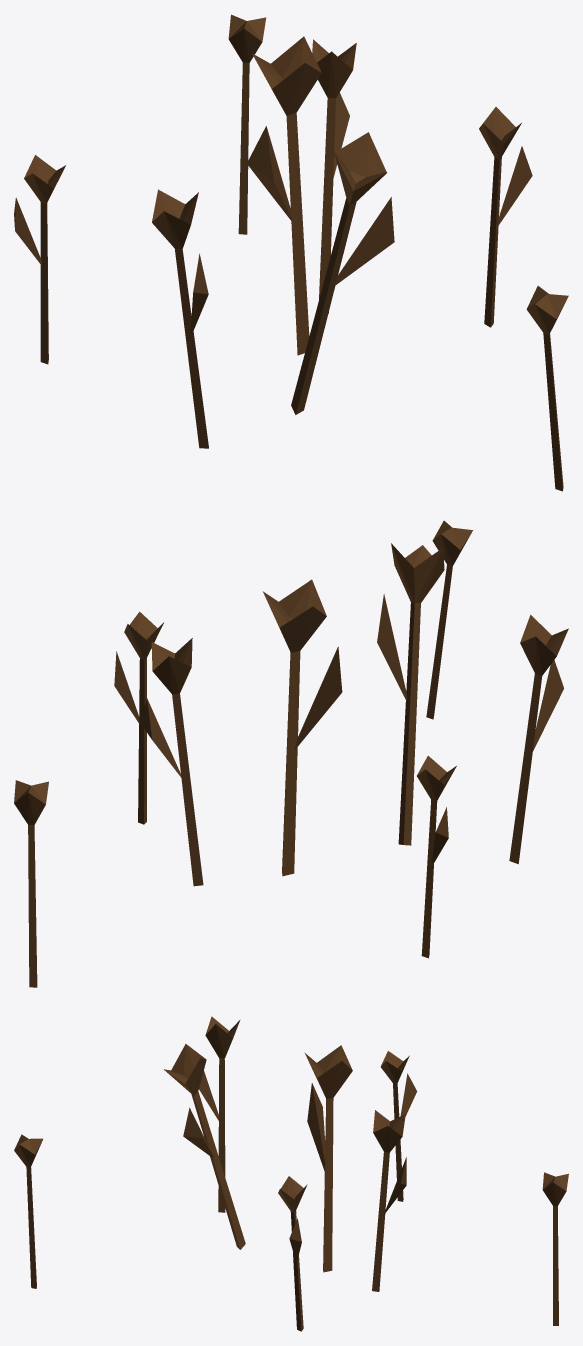
The model's file is SM_Flower_Random_Mature_A.fbx.
3 views of the same model, one above another, from view 1: azimuth 30°, elevation 25°; view 2: azimuth 150°, elevation 25°; view 3: azimuth 270°, elevation 25° (orthographic). The views are drawn at different scales.
Parts seen in each view (by area): view 1: flower-random-mature-a; view 2: flower-random-mature-a; view 3: flower-random-mature-a.
Part boxes in pixels (box(x1,y1,x2,y2)): flower-random-mature-a: box(14, 14, 568, 491); flower-random-mature-a: box(14, 520, 568, 987); flower-random-mature-a: box(14, 1016, 568, 1331).
Bounding box in the file's own units: 0.7095 × 0.5159 × 1.11.
